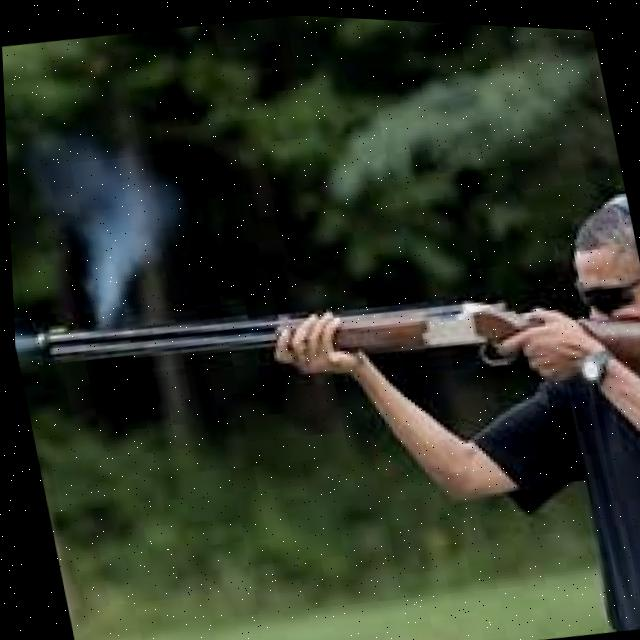firearm: (26, 229, 640, 480)
